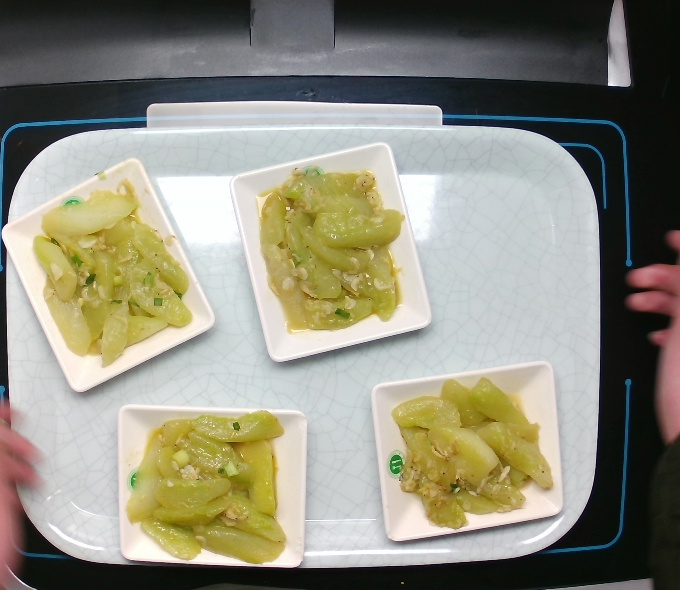wcq-HuangGua: (25, 172, 200, 369), (253, 163, 403, 345), (119, 406, 291, 561), (387, 376, 559, 531)
